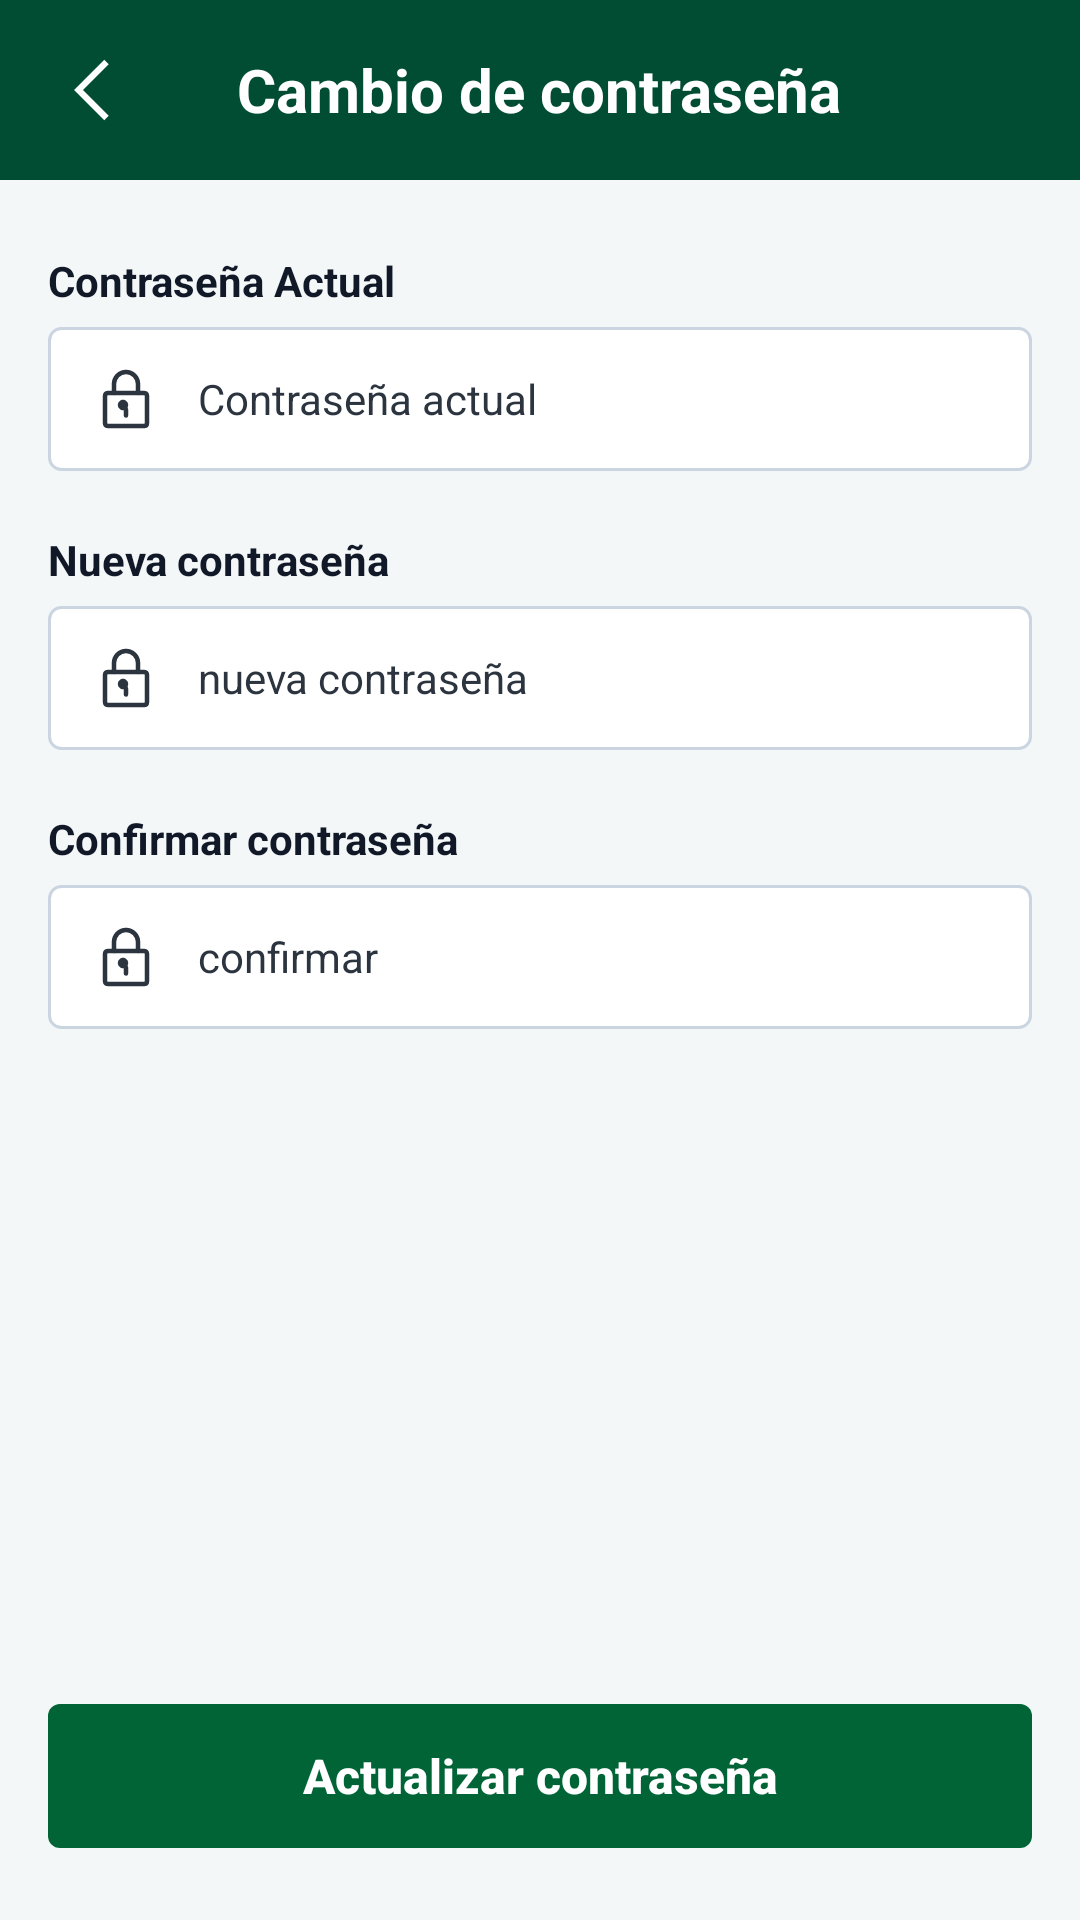

Screen size 1080 x 1920. Icon name, then its box in pixels as (x1, y1, x2, y2):
Volver: (74, 60, 109, 120)
